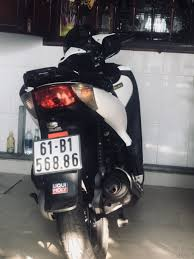Bien-so: (33, 136, 86, 178)
